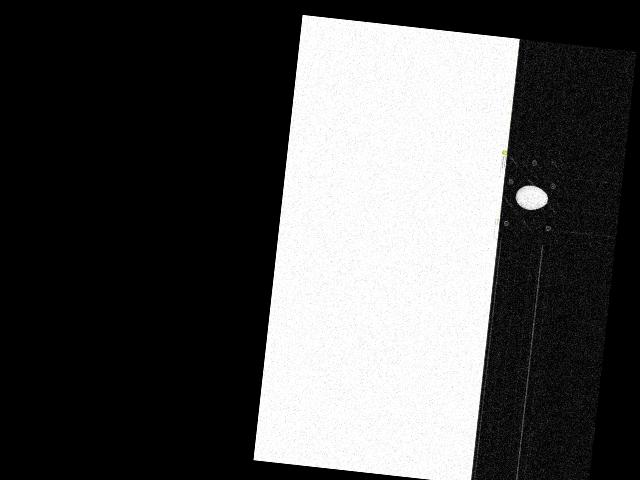egg: (514, 184, 548, 212)
